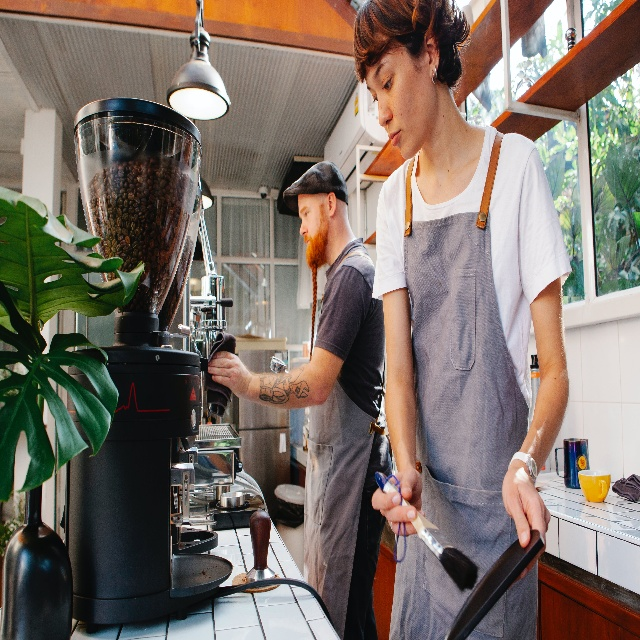Sin_guantes: (502, 464, 551, 590), (371, 468, 426, 536), (208, 350, 250, 399)
